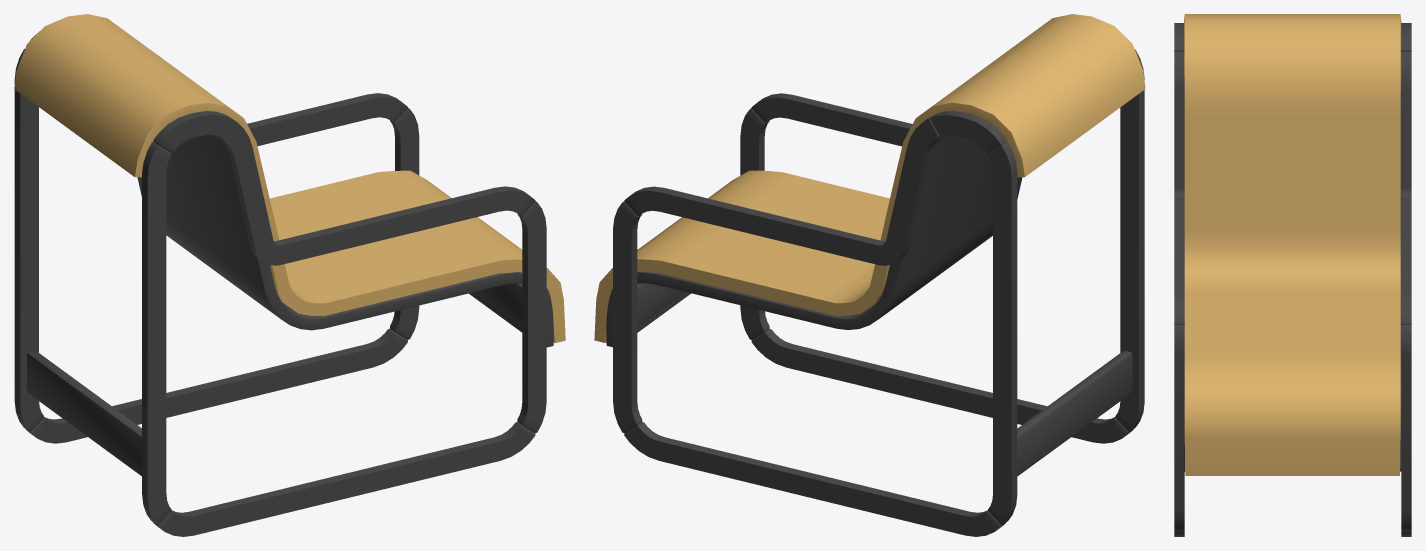
File: Wooden CHair.fbx
3 views of the same model, side by side, from view 1: azimuth 30°, elevation 25°; view 2: azimuth 150°, elevation 25°; view 3: azimuth 270°, elevation 25° (orthographic). The views are drawn at different scales.
Visible parts, largest first — view 1: chair wood; view 2: chair wood; view 3: chair wood.
Boxes of the visible parts, x1,y1,x2,y2 form: chair wood: (14, 14, 565, 536); chair wood: (594, 14, 1145, 536); chair wood: (1174, 14, 1411, 536).
Bounding box in the file's own units: 111 × 105 × 59.19.
